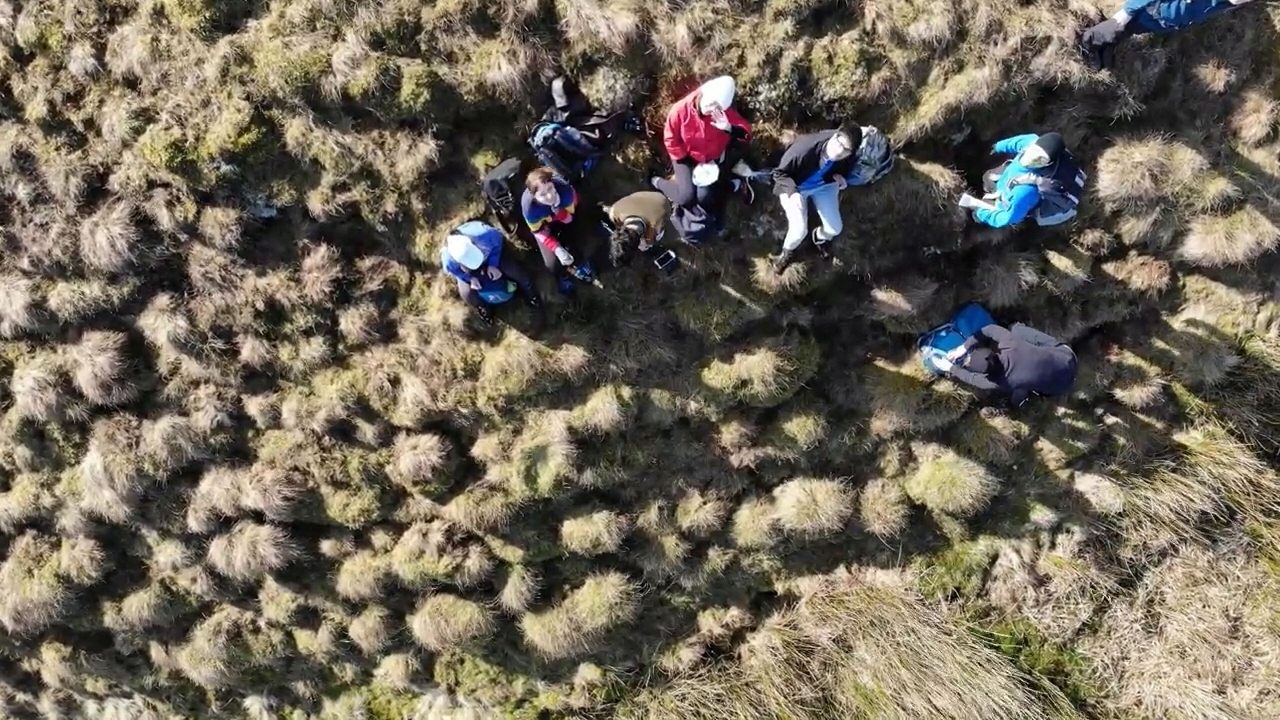insan: (648, 72, 746, 223), (763, 113, 858, 256), (969, 127, 1077, 241), (944, 311, 1078, 402), (518, 168, 597, 279), (439, 218, 524, 308), (601, 186, 673, 252)
